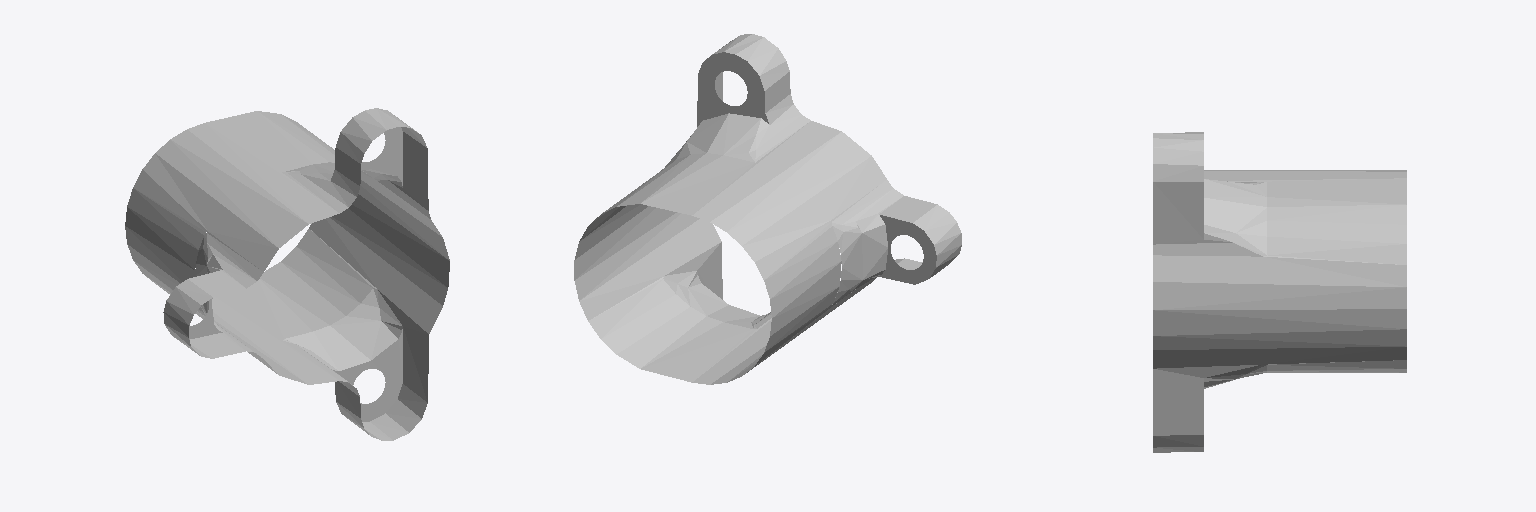
The model's file is motor_support_tl.obj.
3 views of the same model, side by side, from view 1: azimuth 30°, elevation 25°; view 2: azimuth 150°, elevation 25°; view 3: azimuth 270°, elevation 25° (orthographic).
Bounding box in the file's own units: 0.0475 × 0.0543 × 0.04.